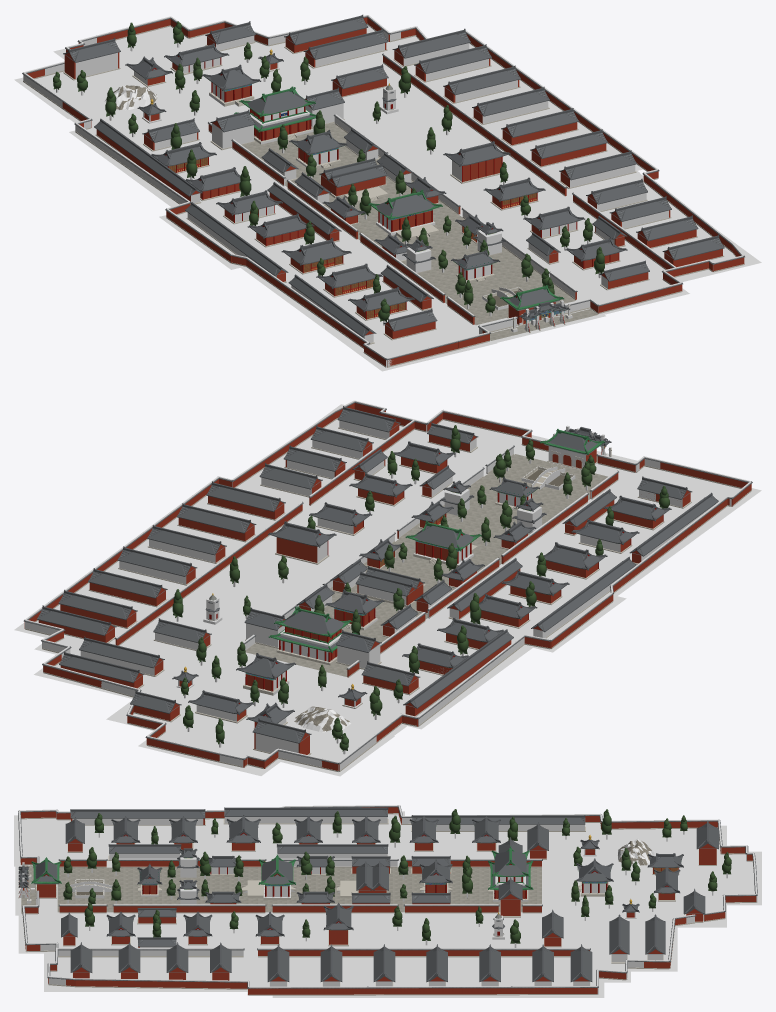
The model's file is baiyunguan.glb.
3 renders of one model, top to bottom at view 1: azimuth 30°, elevation 25°; view 2: azimuth 150°, elevation 25°; view 3: azimuth 270°, elevation 25°, orthographic. The views are drawn at different scales.
Parts seen in each view (by area): view 1: Temple, Massing, FOOTPRINT_precinct0, FOOTPRINT_precinct5, FOOTPRINT_precinct4, FOOTPRINT_precinct7, FOOTPRINT_precinct8, FOOTPRINT_precinct6, COL_h58, FOOTPRINT_precinct1, FOOTPRINT_precinct9, COL_b40 (+2 smaller); view 2: Temple, Massing, FOOTPRINT_precinct5, FOOTPRINT_precinct0, FOOTPRINT_precinct4, FOOTPRINT_precinct8, FOOTPRINT_precinct7, FOOTPRINT_precinct6, FOOTPRINT_precinct1, FOOTPRINT_precinct9, COL_h58, FOOTPRINT_precinct3 (+2 smaller); view 3: Temple, Massing, FOOTPRINT_precinct5, FOOTPRINT_precinct0, FOOTPRINT_precinct4, FOOTPRINT_precinct7, FOOTPRINT_precinct8, FOOTPRINT_precinct6, FOOTPRINT_precinct9, FOOTPRINT_precinct1, COL_h72, COL_b68 (+9 smaller).
Boxes of the visible parts, bbox=[...] form: Temple: bbox=[22, 14, 744, 367]; Massing: bbox=[27, 17, 723, 366]; FOOTPRINT_precinct0: bbox=[239, 170, 761, 358]; FOOTPRINT_precinct5: bbox=[69, 43, 562, 207]; FOOTPRINT_precinct4: bbox=[159, 122, 643, 269]; FOOTPRINT_precinct7: bbox=[41, 25, 374, 119]; FOOTPRINT_precinct8: bbox=[14, 35, 264, 99]; FOOTPRINT_precinct6: bbox=[69, 36, 427, 127]; COL_h58: bbox=[75, 123, 189, 203]; FOOTPRINT_precinct1: bbox=[365, 332, 497, 371]; FOOTPRINT_precinct9: bbox=[53, 26, 187, 59]; COL_b40: bbox=[212, 123, 253, 148]; Temple: bbox=[23, 402, 752, 771]; Massing: bbox=[37, 403, 751, 770]; FOOTPRINT_precinct5: bbox=[14, 549, 533, 729]; FOOTPRINT_precinct0: bbox=[236, 404, 744, 596]; FOOTPRINT_precinct4: bbox=[134, 496, 626, 652]; FOOTPRINT_precinct8: bbox=[106, 701, 367, 776]; FOOTPRINT_precinct7: bbox=[34, 664, 394, 756]; FOOTPRINT_precinct6: bbox=[34, 640, 406, 736]; FOOTPRINT_precinct1: bbox=[627, 466, 761, 502]; FOOTPRINT_precinct9: bbox=[138, 732, 281, 775]; COL_h58: bbox=[417, 634, 524, 726]; FOOTPRINT_precinct3: bbox=[438, 420, 534, 447]; Temple: bbox=[18, 805, 757, 995]; Massing: bbox=[20, 810, 756, 981]; FOOTPRINT_precinct5: bbox=[402, 823, 604, 997]; FOOTPRINT_precinct0: bbox=[44, 818, 274, 991]; FOOTPRINT_precinct4: bbox=[272, 811, 404, 997]; FOOTPRINT_precinct7: bbox=[628, 829, 677, 971]; FOOTPRINT_precinct8: bbox=[675, 825, 726, 927]; FOOTPRINT_precinct6: bbox=[602, 829, 630, 982]; FOOTPRINT_precinct9: bbox=[725, 851, 761, 905]; FOOTPRINT_precinct1: bbox=[14, 815, 45, 866]; COL_h72: bbox=[57, 948, 243, 955]; COL_b68: bbox=[224, 817, 387, 823].
Bounding box in the file's own units: 184 × 17.4 × 311.
Materials: 21 (7 with a texture image).
